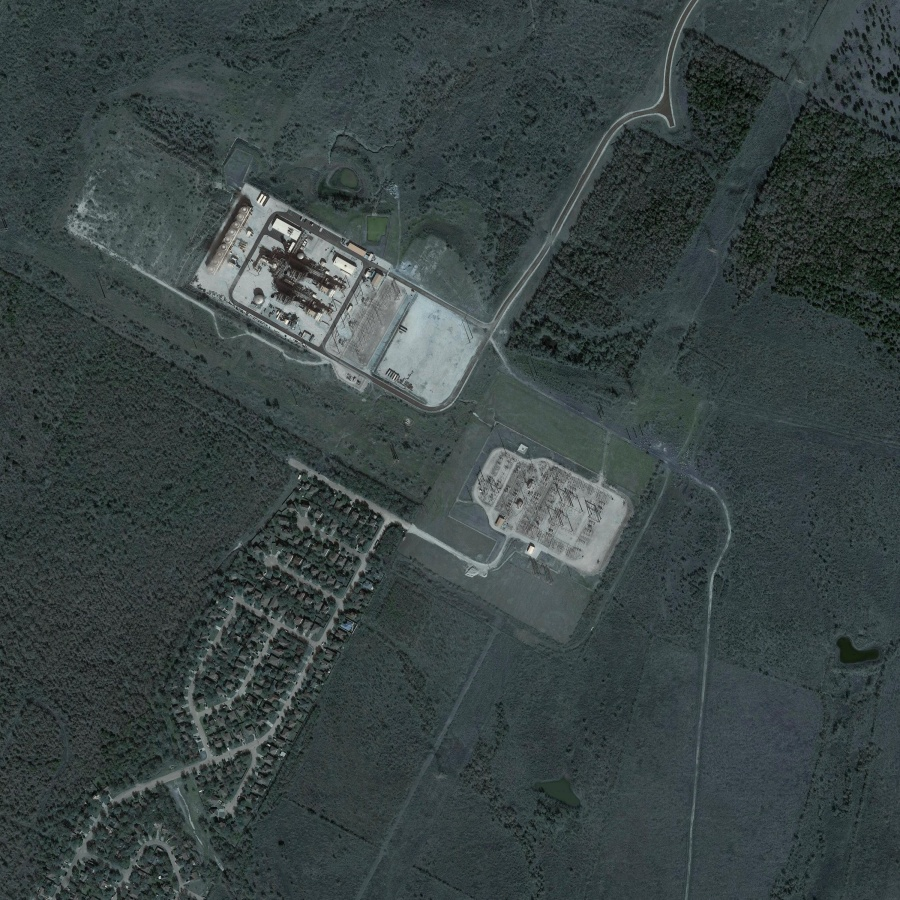PowerPlant: (196, 186, 406, 376), (470, 432, 616, 568)
